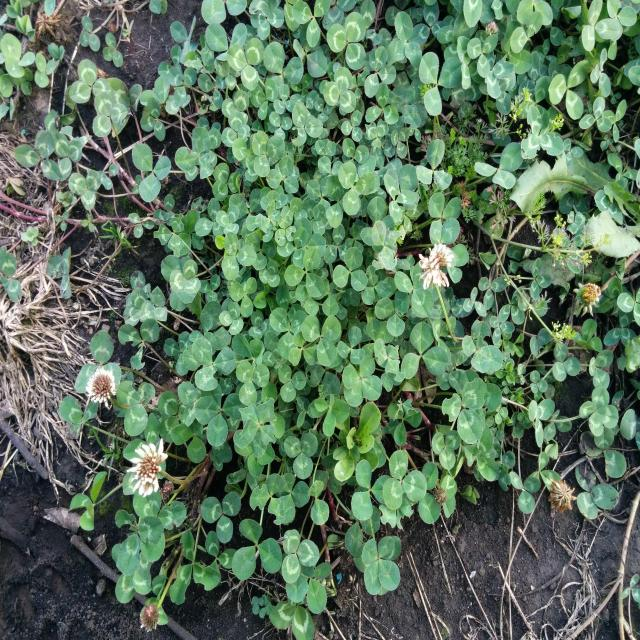Four Leaf Clover: (362, 536, 400, 595), (342, 355, 382, 406)
